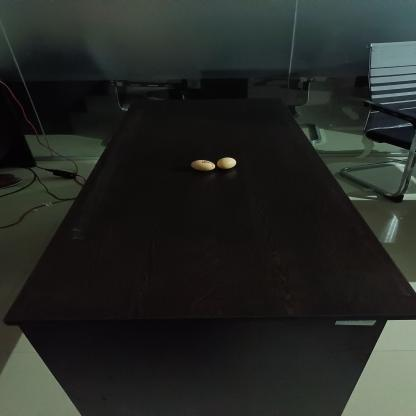egg: (189, 158, 218, 172), (218, 156, 236, 170)
